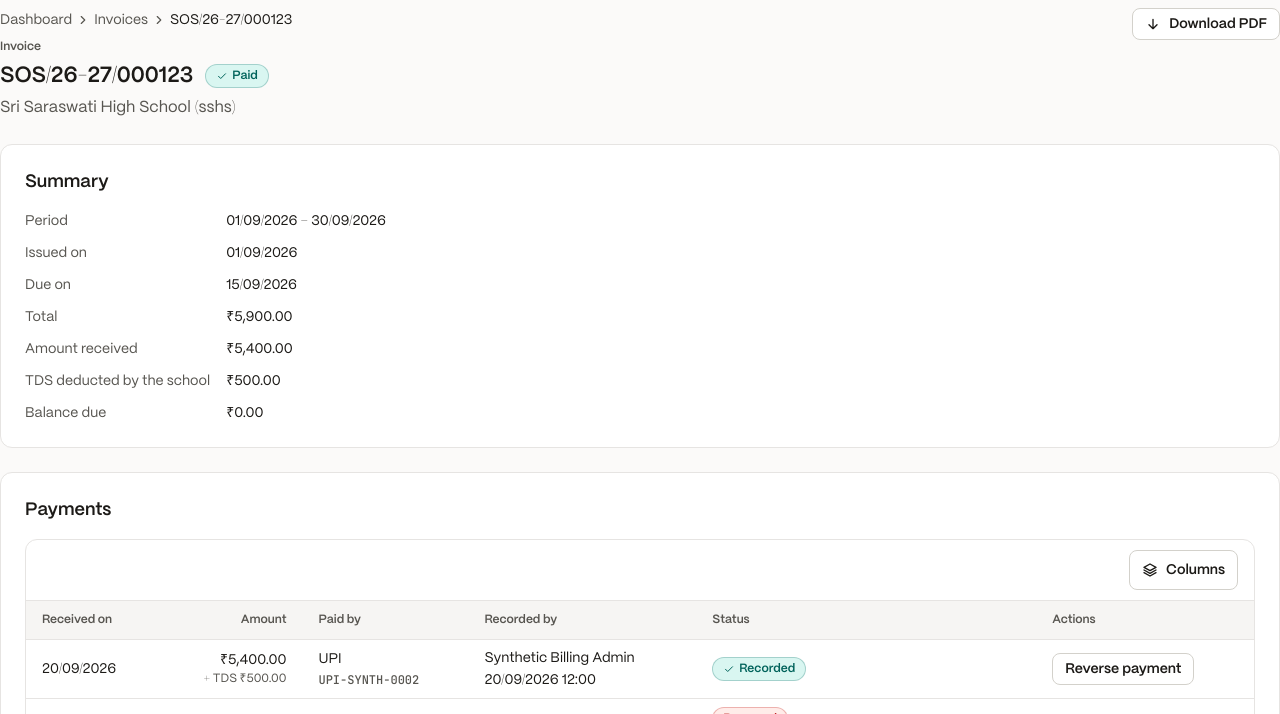
invoice payments (FR-PLT-018, docs/16 §5.9) › 403 says the role is missing
The image size is (1280, 714).
expect the text "UPI-SYNTH-0002" is shown: met, box [318, 672, 419, 688]
Click the button "Reverse payment" at (1123, 669), box [1052, 653, 1194, 685]
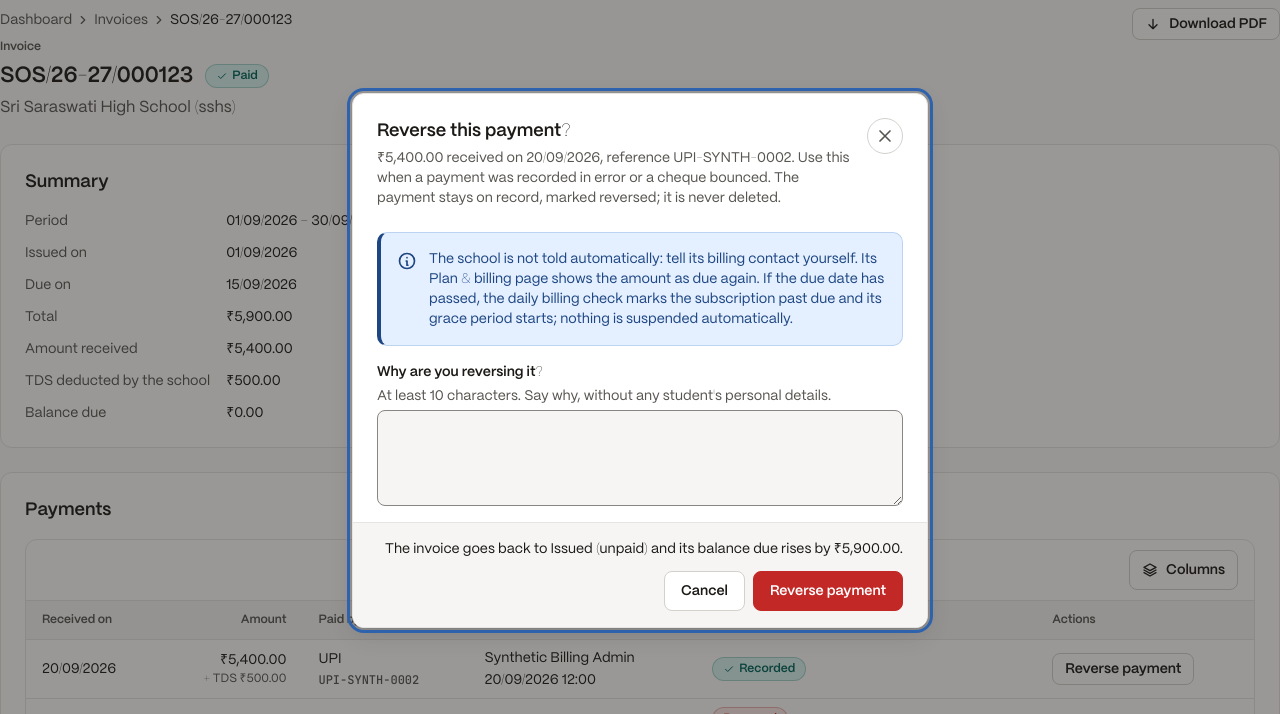
Type "Recorded against the wrong invoice" into the text box labelled "Why are you reversing it?" at (640, 458), box [377, 410, 903, 506]
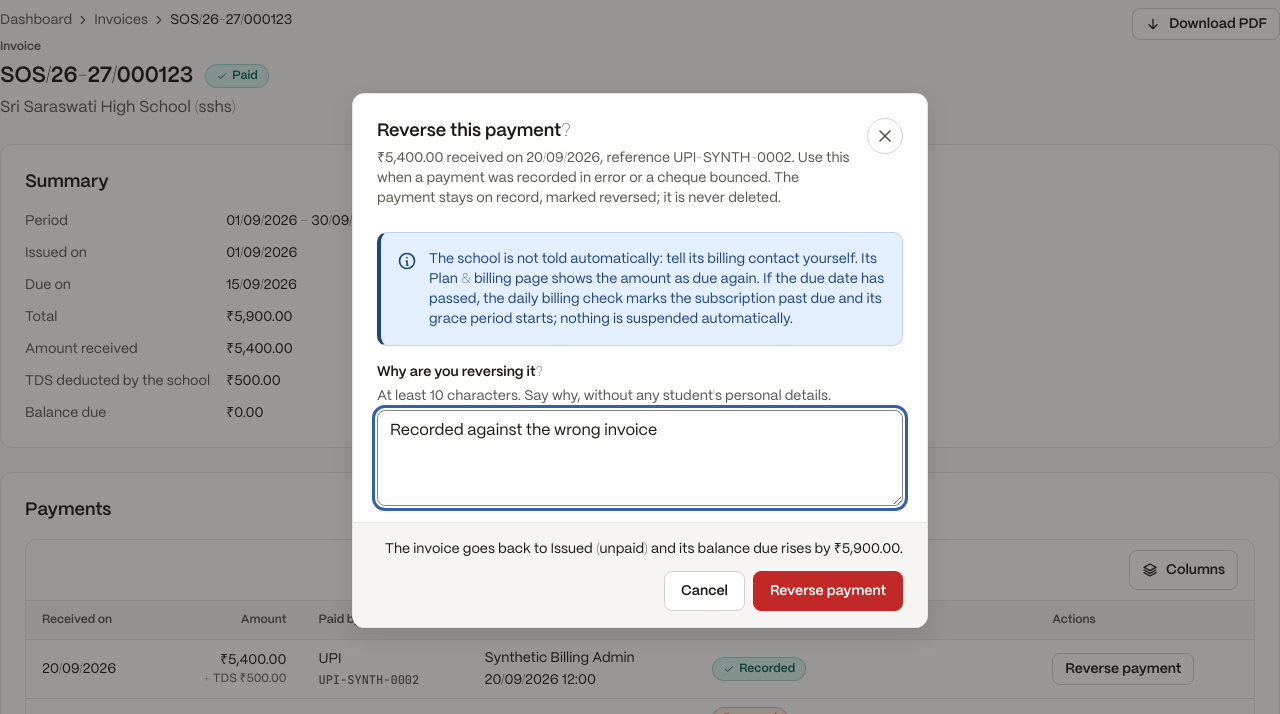
Click the button "Reverse payment" below "Why are you reversing it?" at (828, 590), box [753, 570, 903, 610]
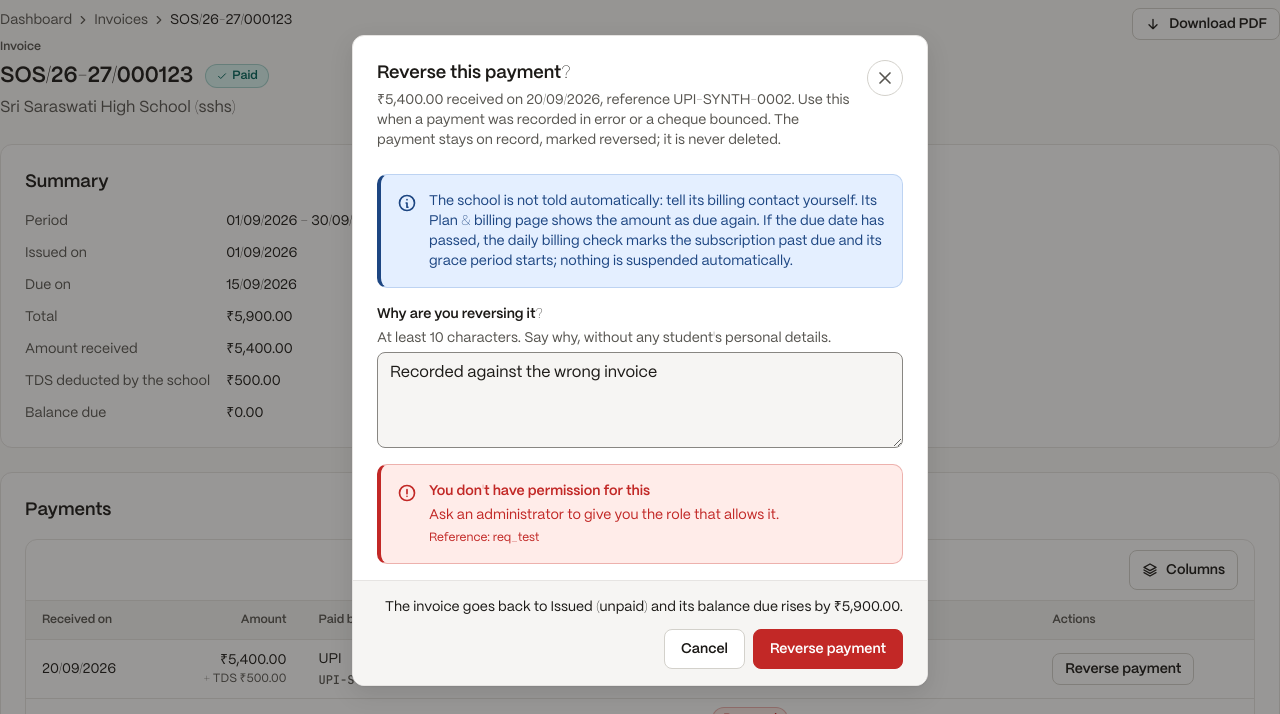
expect the text "You don't have permission for this" is shown: met, box [429, 484, 650, 498]
